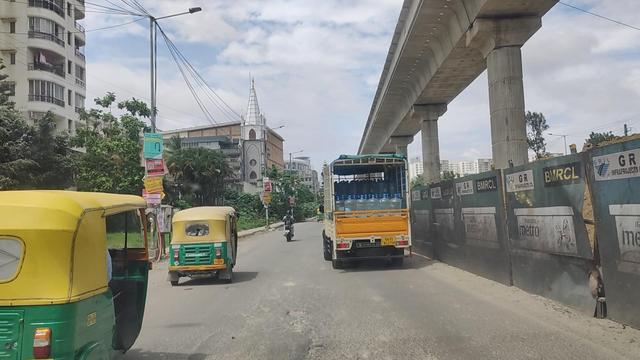HMV: (318, 143, 415, 276)
LMV: (170, 204, 233, 288), (279, 209, 293, 248)
RoadDamages: (181, 320, 319, 360), (277, 292, 310, 317)
